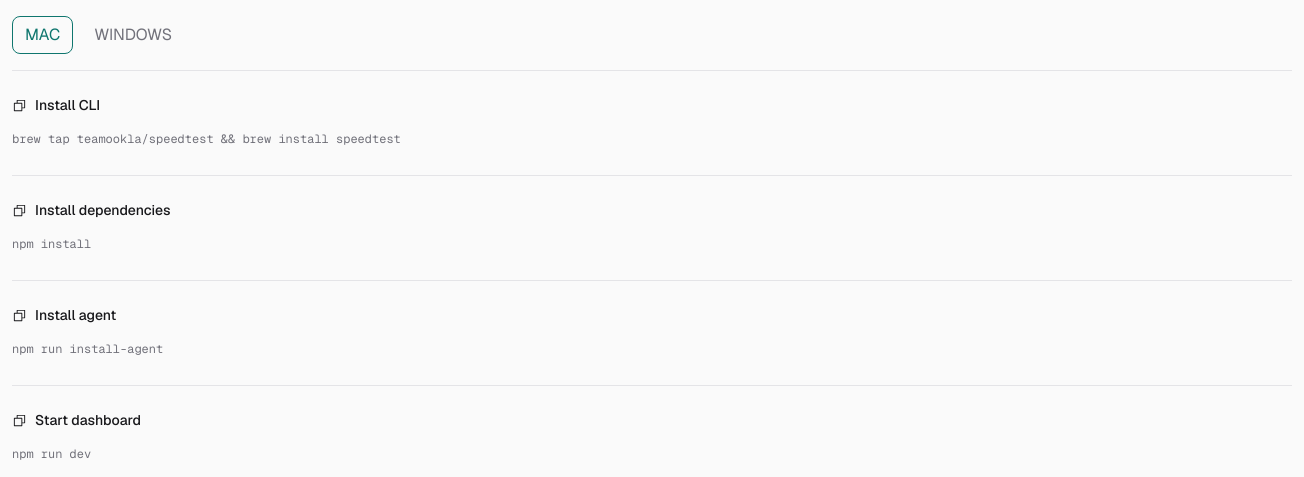
Test: LandingCommands client behavior › shows textual failure feedback when clipboard writing rejects
Click the button "Install dependencies npm install".
click(103, 210)  # box x1=12 y1=176 x2=1292 y2=280
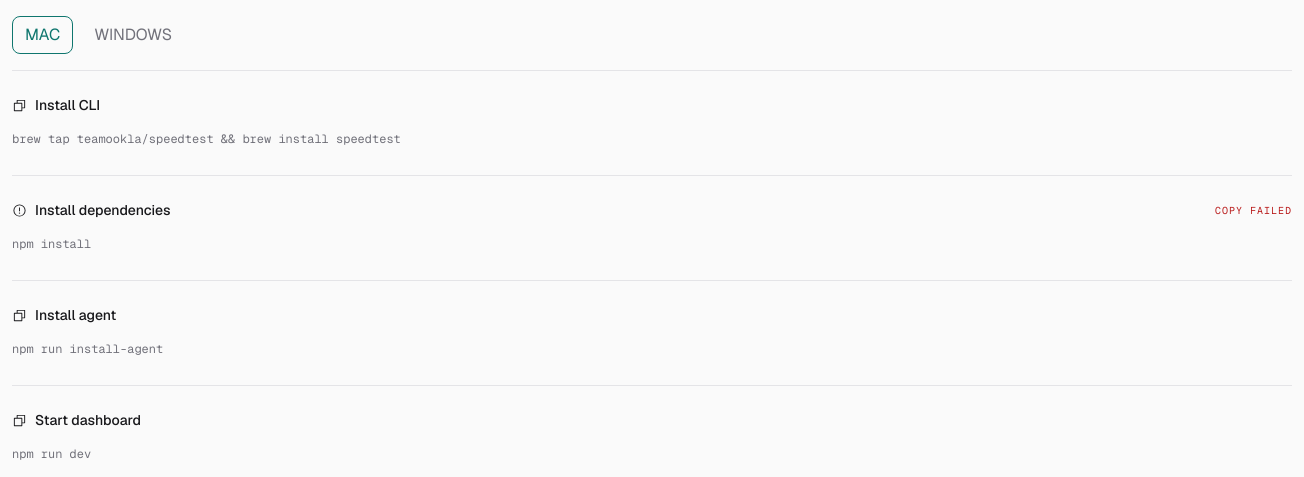
expect the text "Copy failed" is shown: met, box x1=1215 y1=202 x2=1292 y2=218
